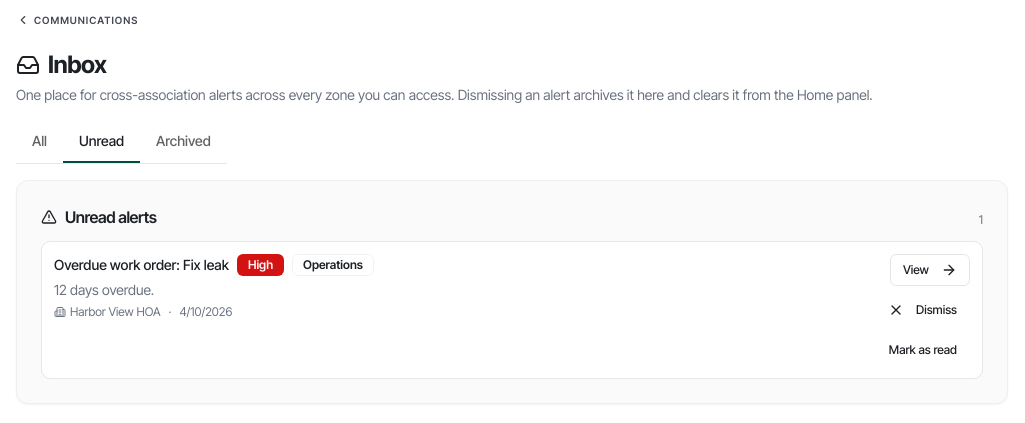
Test: CommunicationsInboxPage — Archived tab filters to dismissed items › shows the archived empty state when no dismissed items match
Radix Tabs listens on `mouseDown` (not `click`) to switch tabs.
Press the mouse on the tab with test id "inbox-tab-archived" at {"x": 183, "y": 142}, box [140,121,227,163]
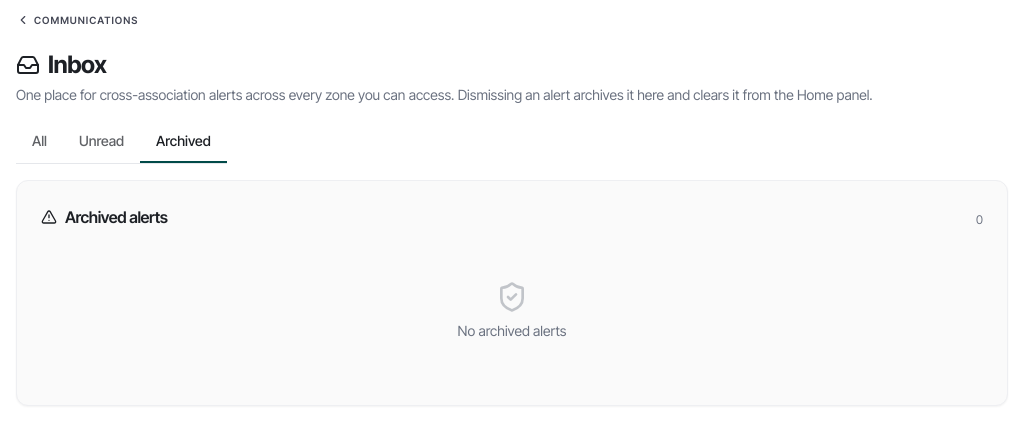
Now the message "No archived alerts" is shown, box [458,281,566,339]
Now the text "No archived alerts" is shown, box [458,321,566,341]
